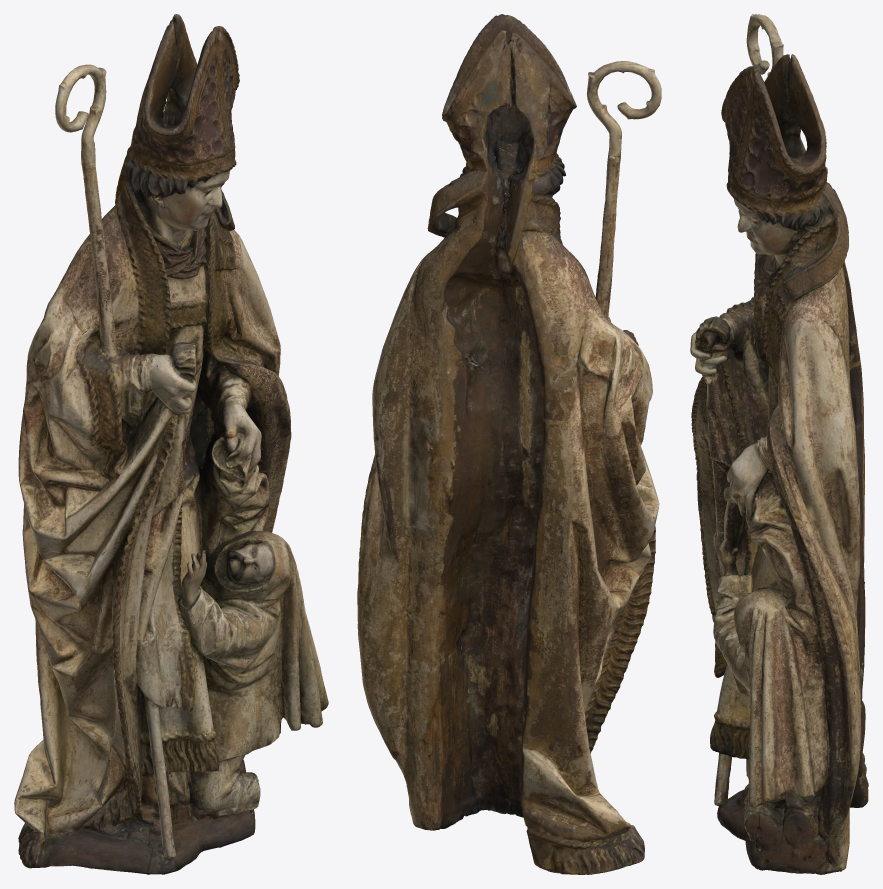
Rendered from preview.glb.
3 renders of one model, left to right at view 1: azimuth 30°, elevation 25°; view 2: azimuth 150°, elevation 25°; view 3: azimuth 270°, elevation 25°, orthographic. The views are drawn at different scales.
Visible parts, largest first — view 1: defaultMaterial (×3); view 2: defaultMaterial (×3); view 3: defaultMaterial (×3).
Part boxes in pixels (x1=…): defaultMaterial (×3): x1=14, y1=14, x2=328, y2=874; defaultMaterial (×3): x1=357, y1=14, x2=661, y2=874; defaultMaterial (×3): x1=690, y1=14, x2=868, y2=874.
Size of the model in its own units: 0.7306 by 2 by 0.4106.
Materials: 3 (3 with a texture image).
